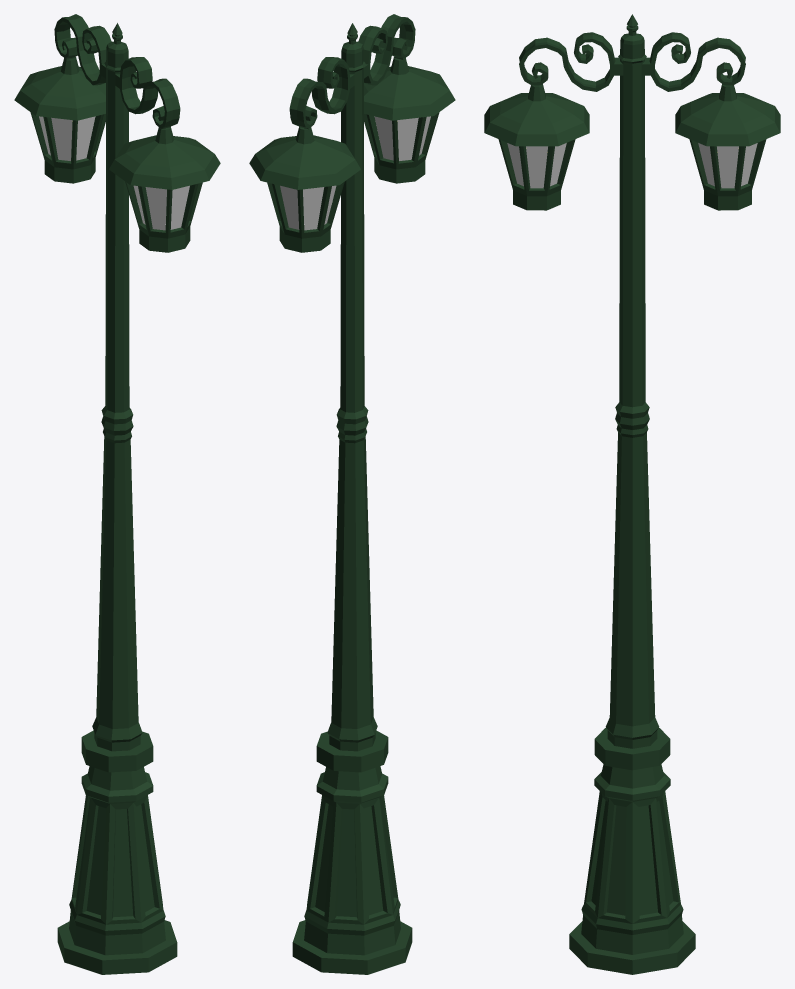
File: Streetlight_Double.glb
3 views of the same model, side by side, from view 1: azimuth 30°, elevation 25°; view 2: azimuth 150°, elevation 25°; view 3: azimuth 270°, elevation 25° (orthographic).
Visible parts, largest first — view 1: Green.002, Glass.002; view 2: Green.002, Glass.002; view 3: Green.002, Glass.002.
Boxes of the visible parts, left/top/right/bottom form: Green.002: left=14, top=14, right=220, bottom=974; Glass.002: left=39, top=116, right=189, bottom=230; Green.002: left=249, top=14, right=455, bottom=974; Glass.002: left=280, top=116, right=430, bottom=230; Green.002: left=484, top=14, right=780, bottom=974; Glass.002: left=507, top=143, right=757, bottom=188.
Bounding box in the file's own units: 0.5929 × 4.95 × 1.42.
